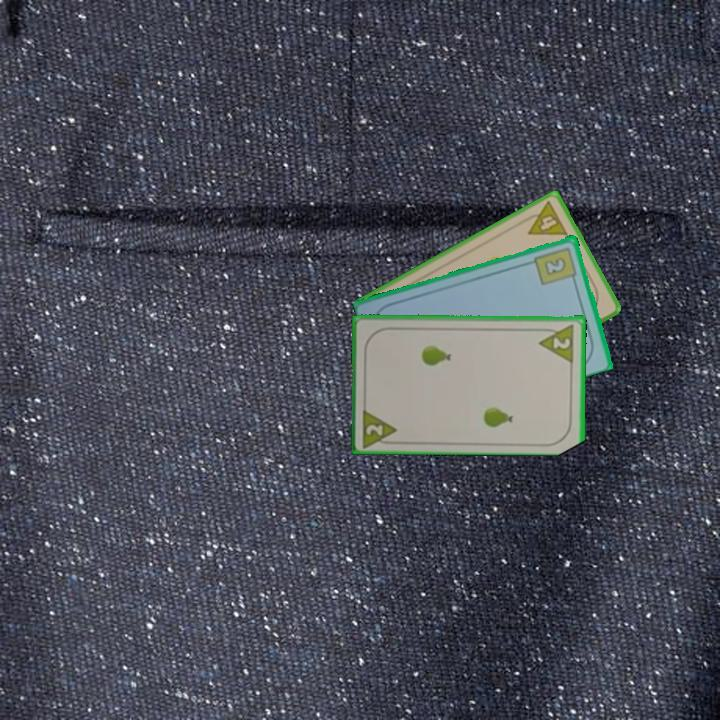2b: (531, 243, 580, 288)
2p: (359, 404, 401, 449), (536, 320, 577, 364)
4p: (518, 198, 571, 238)
